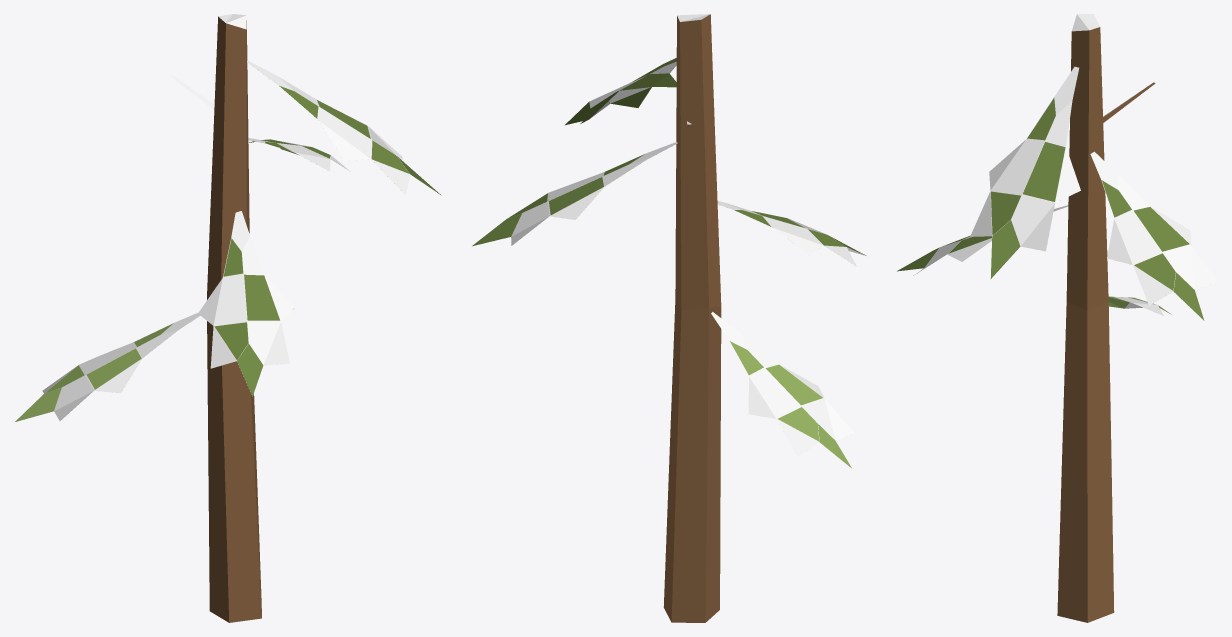
Rendered from Dead_Pine_Tree_crk_l_Snow_04_LOD.fbx.
3 renders of one model, left to right at view 1: azimuth 30°, elevation 25°; view 2: azimuth 150°, elevation 25°; view 3: azimuth 270°, elevation 25°, orthographic.
Visible parts, largest first — view 1: Dead_Pine_Tree_crk_l_Snow_04_LOD0; view 2: Dead_Pine_Tree_crk_l_Snow_04_LOD0; view 3: Dead_Pine_Tree_crk_l_Snow_04_LOD0.
Boxes of the visible parts, box(x1,y1,x2,y2) form: Dead_Pine_Tree_crk_l_Snow_04_LOD0: box(15, 14, 441, 622); Dead_Pine_Tree_crk_l_Snow_04_LOD0: box(471, 14, 866, 622); Dead_Pine_Tree_crk_l_Snow_04_LOD0: box(897, 14, 1217, 622).
Size of what is drawn, in the model's own units: 462 by 753 by 372.
